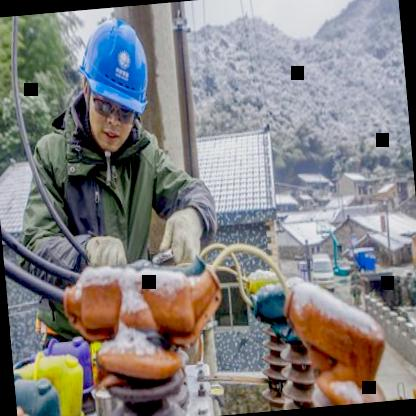helmet: (68, 4, 163, 160)
